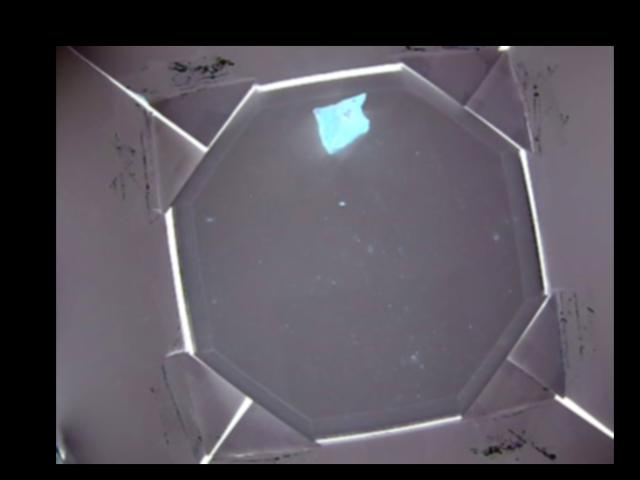Brisk: (313, 92, 369, 152)
